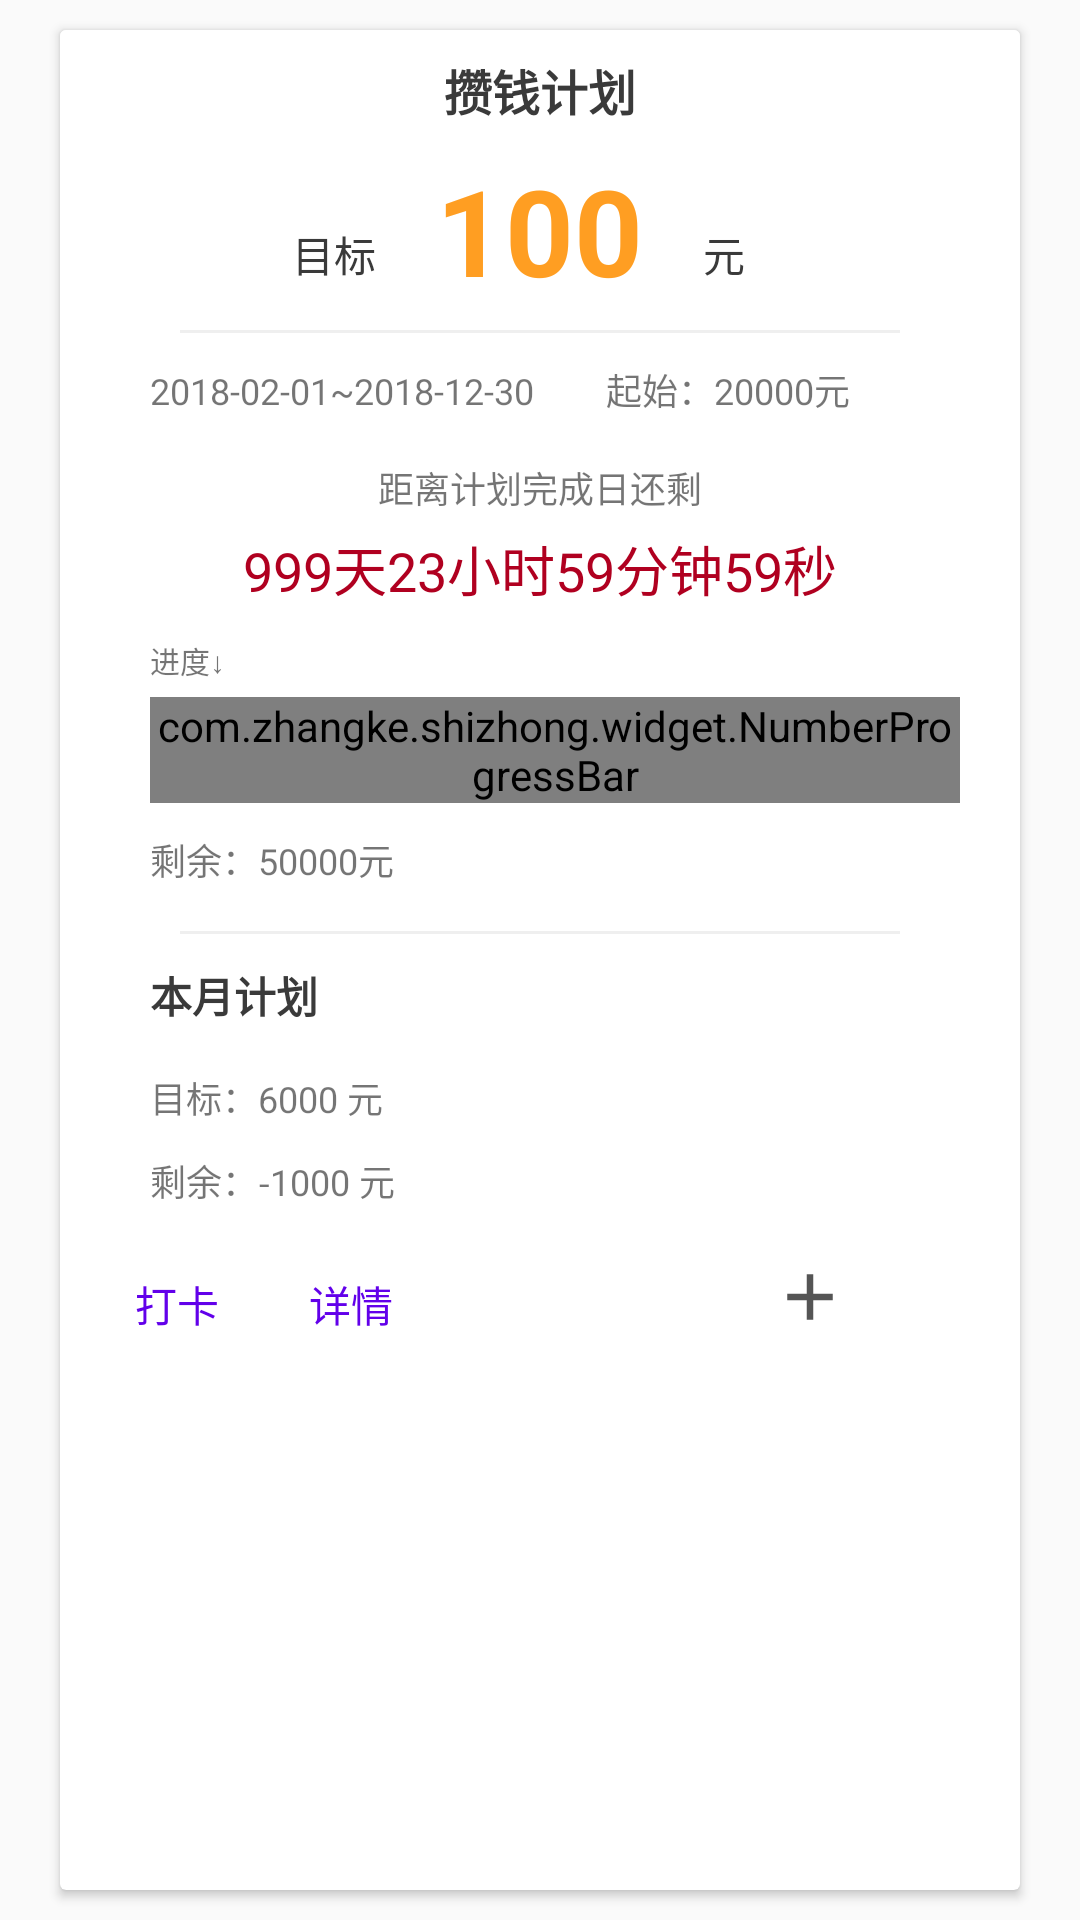

Named icons in this screenshot (1080x1920) and their centers, point (x, y):
add: point (810, 1297)
